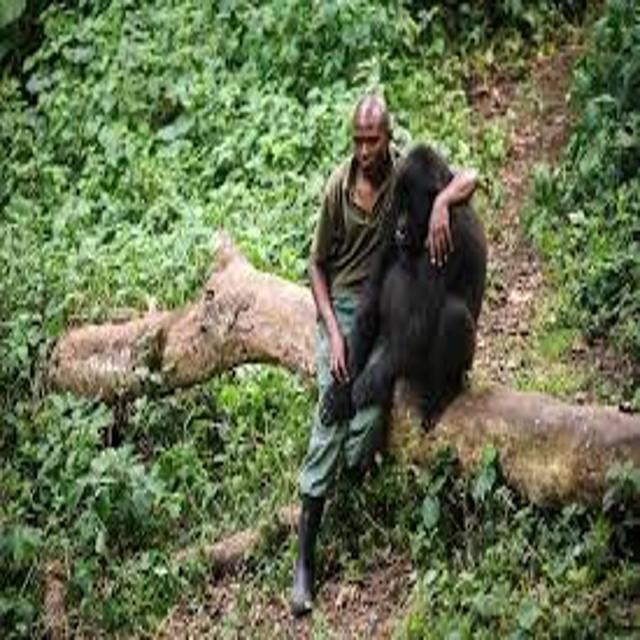Gorilla: (330, 136, 527, 428)
